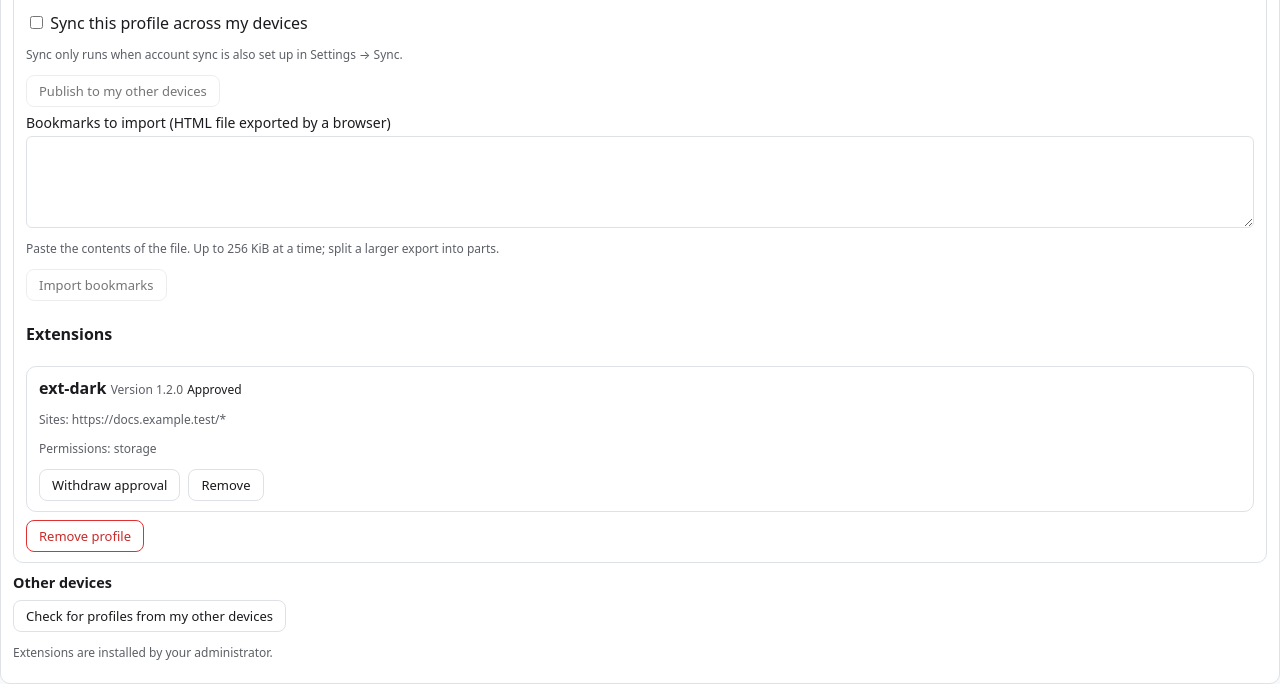
Scenario: browser profiles card › withdraws without a waiting state and removes an extension
The width and height of the screenshot is (1280, 684).
(page scrolled)
Click the button with aria-label "Withdraw approval of extension ext-dark" at (110, 485), box [39,469,180,501]
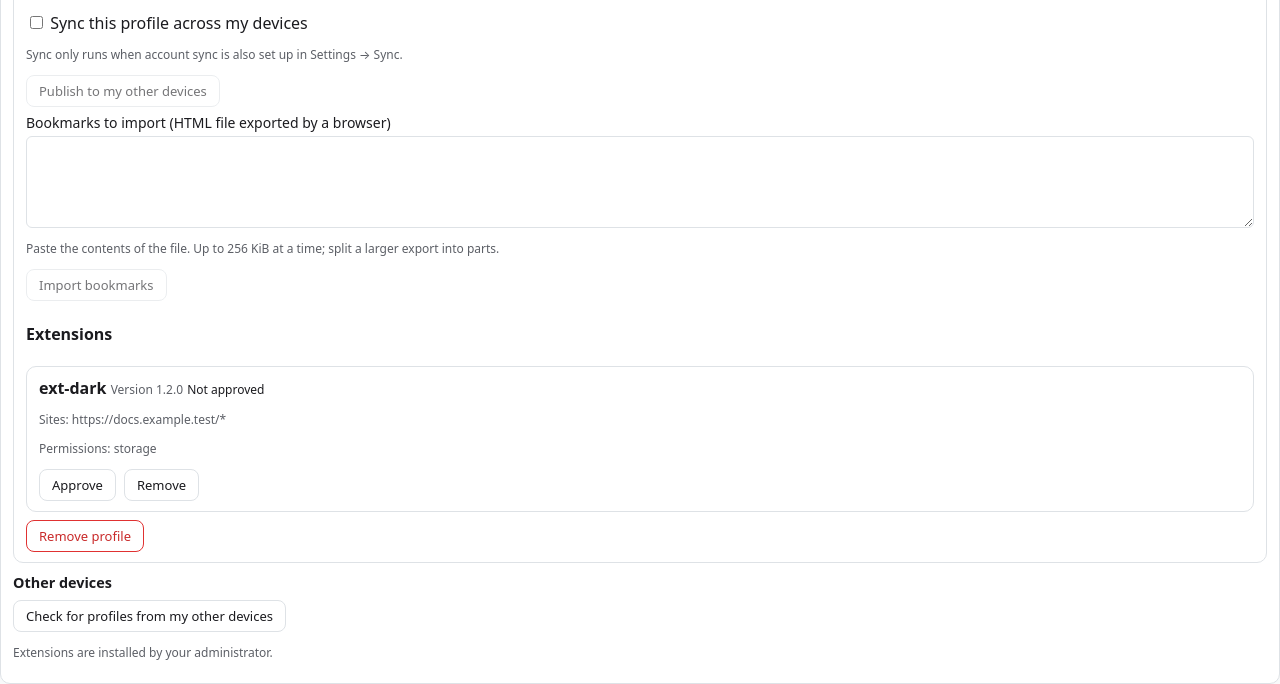
Expected: the text "Not approved" is shown, [187,381,264,398]
Click the button with aria-label "Remove extension ext-dark" at (162, 485), box [124,469,199,501]
(page scrolled)
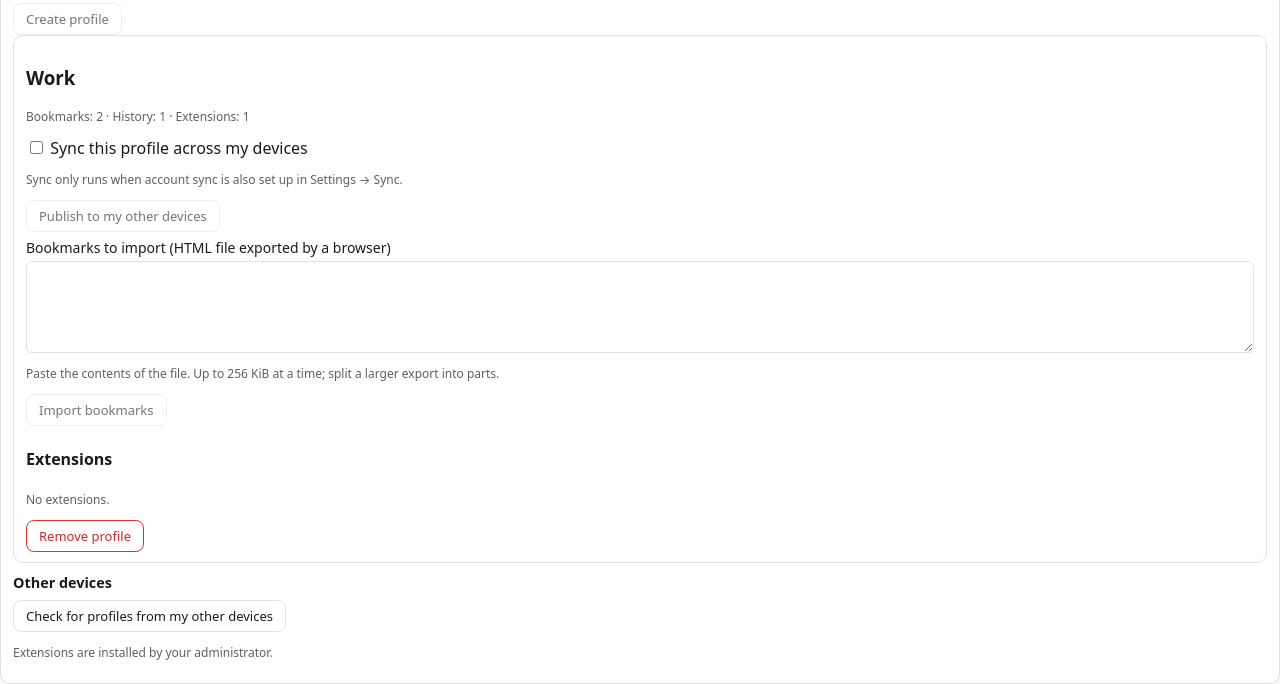
Expected: the text "No extensions." is shown, [26,491,109,508]
